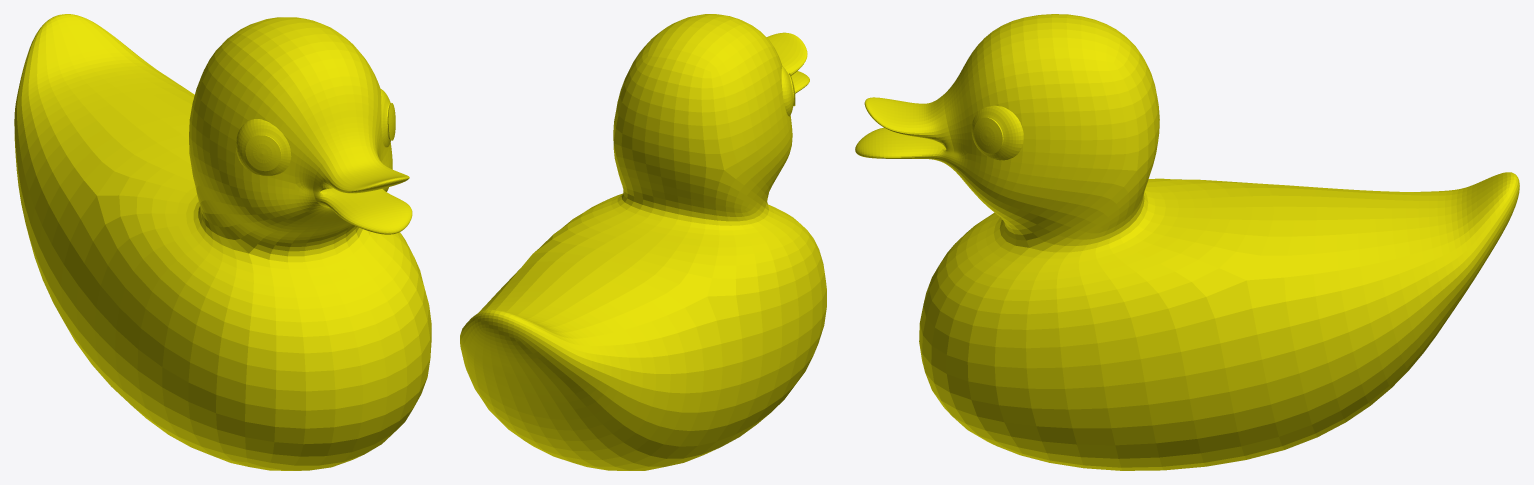
File: Ducky.fbx
3 renders of one model, left to right at view 1: azimuth 30°, elevation 25°; view 2: azimuth 150°, elevation 25°; view 3: azimuth 270°, elevation 25°, orthographic. The views are drawn at different scales.
Parts seen in each view (by area): view 1: ducky:polySurface1; view 2: ducky:polySurface1; view 3: ducky:polySurface1.
Part boxes in pixels (x1,y1,x2,y2): ducky:polySurface1: (14, 14, 431, 470); ducky:polySurface1: (460, 14, 826, 470); ducky:polySurface1: (855, 14, 1519, 470).
Bounding box in the file's own units: 184 × 292 × 409.
